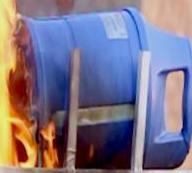cylinder: (0, 1, 192, 173)
